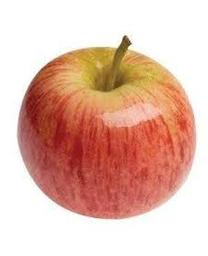apple: (16, 37, 196, 220)
